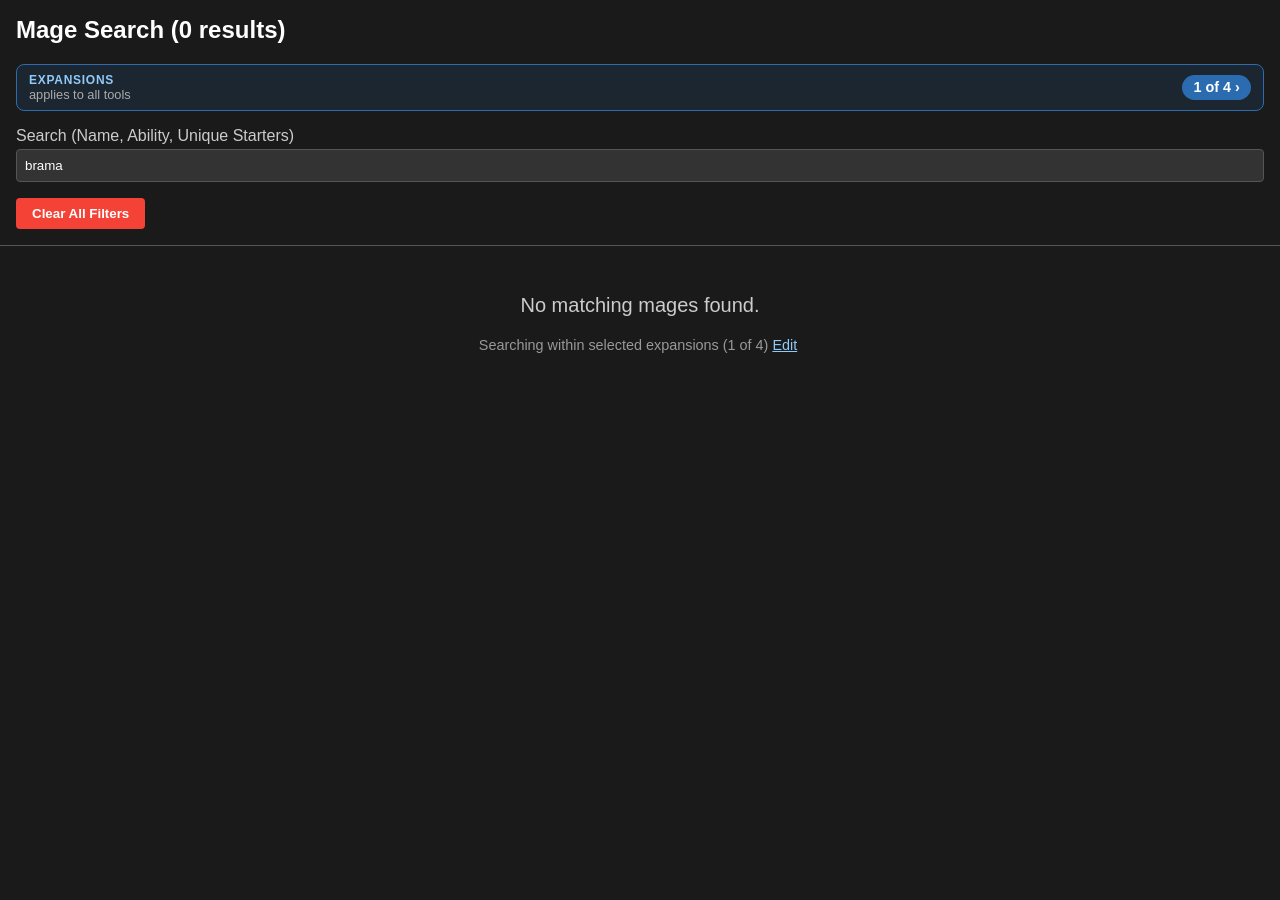
Test: Expansions (app-wide setting) › the "Searching within" note opens the picker, which stays open when a pick brings back results
The image size is (1280, 900).
Check: the text "No matching mages found." is shown, box [520,294,760,316]
Click the button "Edit".
click(785, 345)  # box [768,337,801,353]
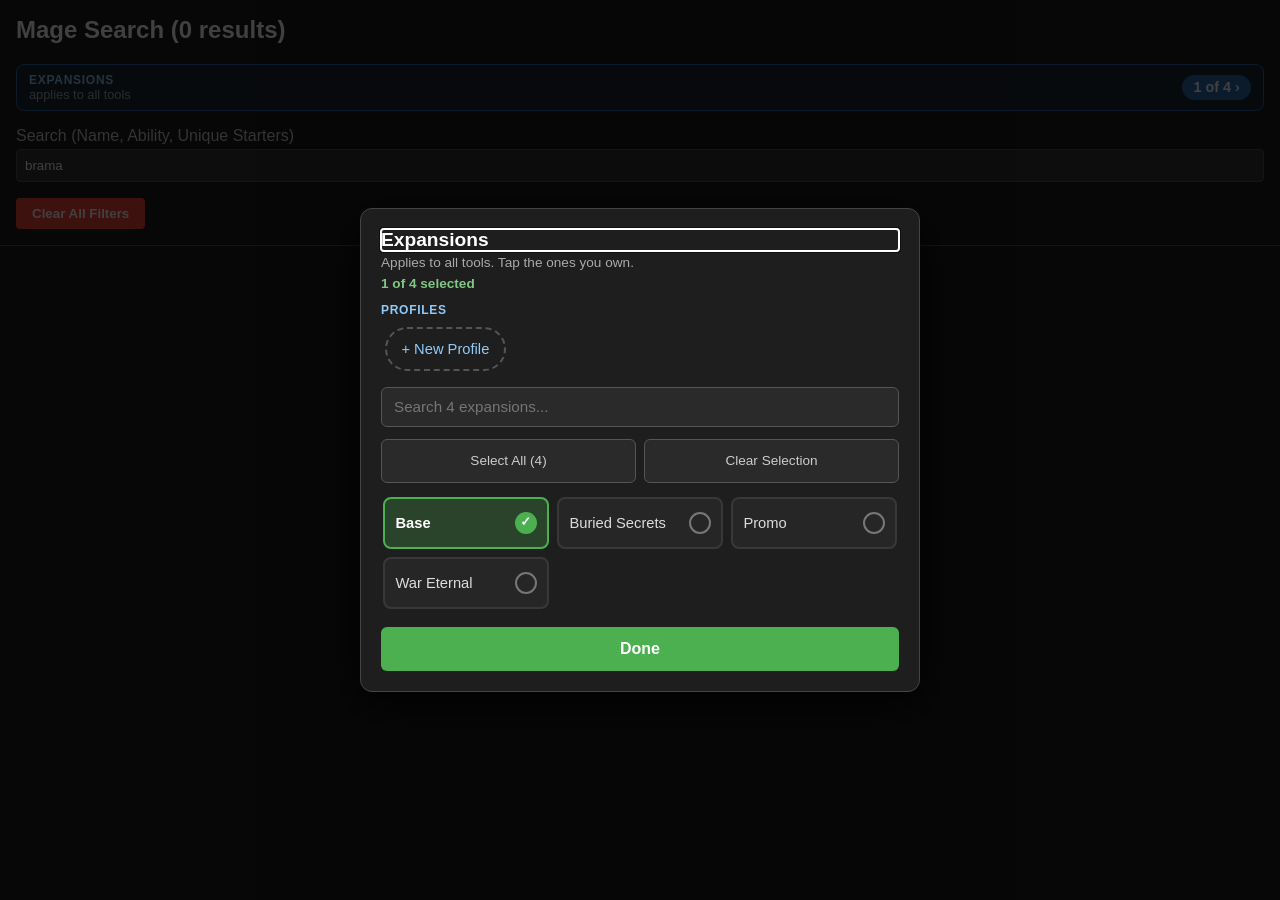
Click the button "War Eternal".
click(466, 583)  # box [383,557,549,609]
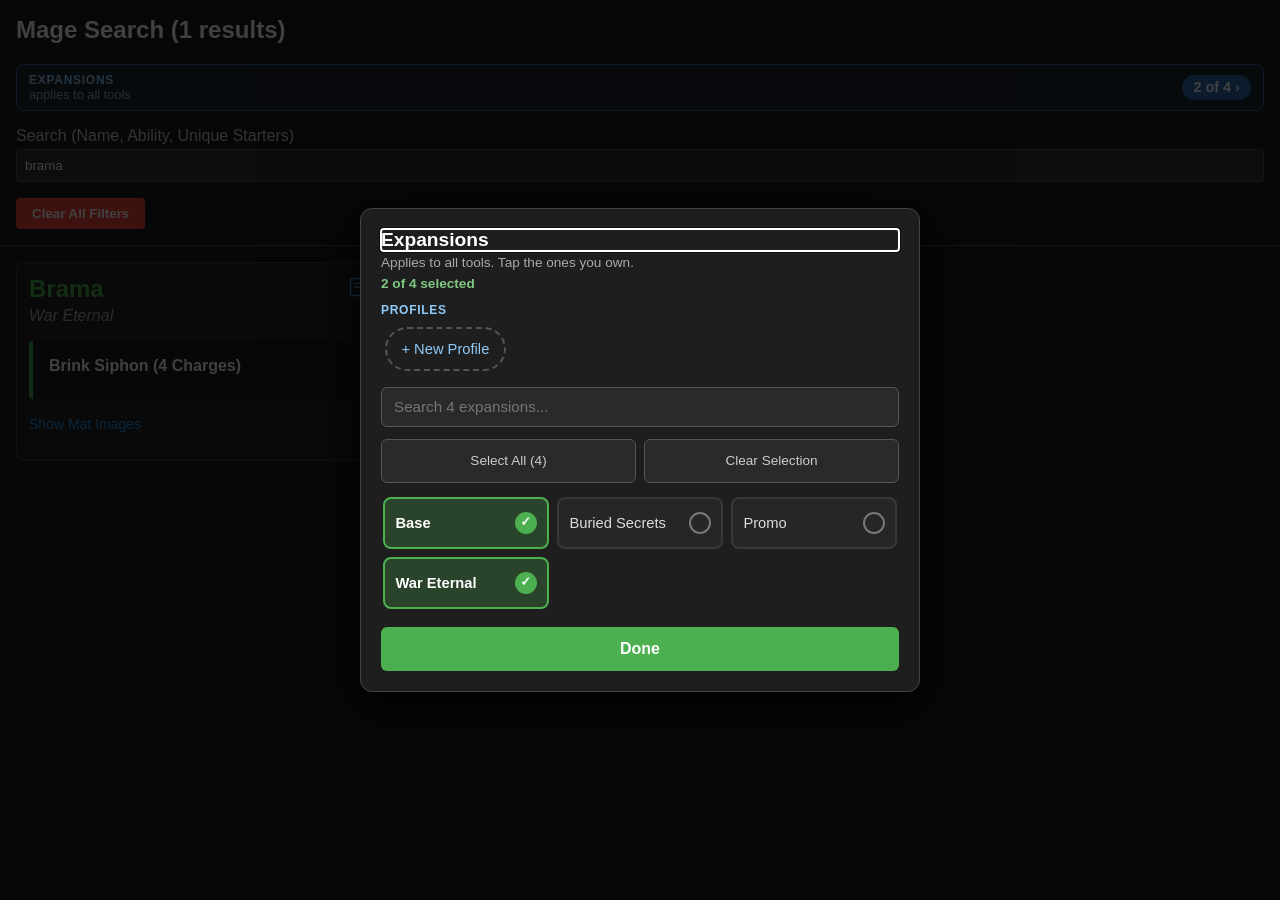
Check: the dialog is shown
Check: the link "Brama" is shown, box [29,275,104,302]
